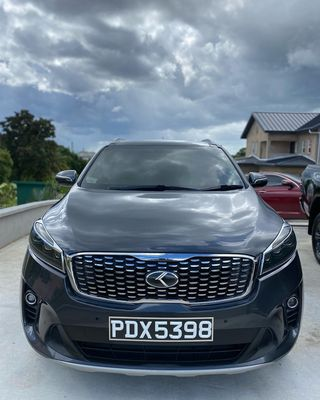License-Plate: (109, 317, 212, 340)
